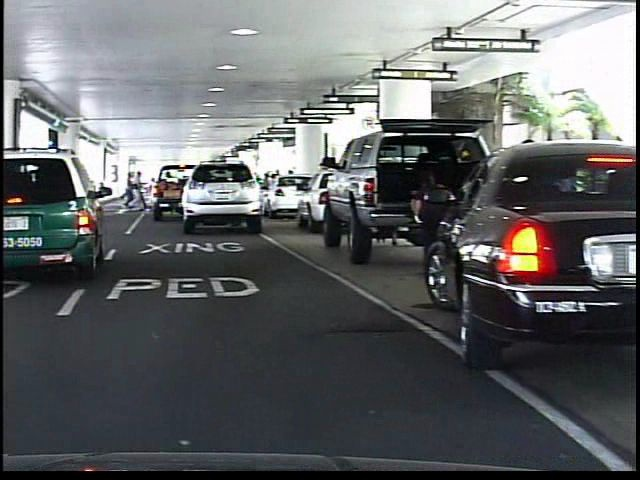person: (405, 157, 458, 270)
